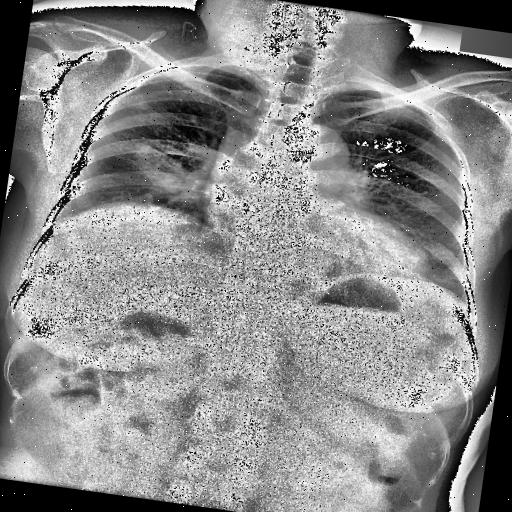0- Aortic enlargement: (264, 112, 355, 184), (287, 120, 354, 187), (282, 120, 353, 166)
3- Cardiomegaly: (194, 198, 436, 280), (197, 205, 428, 289)
6- Infiltration: (130, 146, 190, 190)
7- Lung Opacity: (130, 146, 190, 190)
9- Other lesion: (130, 146, 190, 190)
